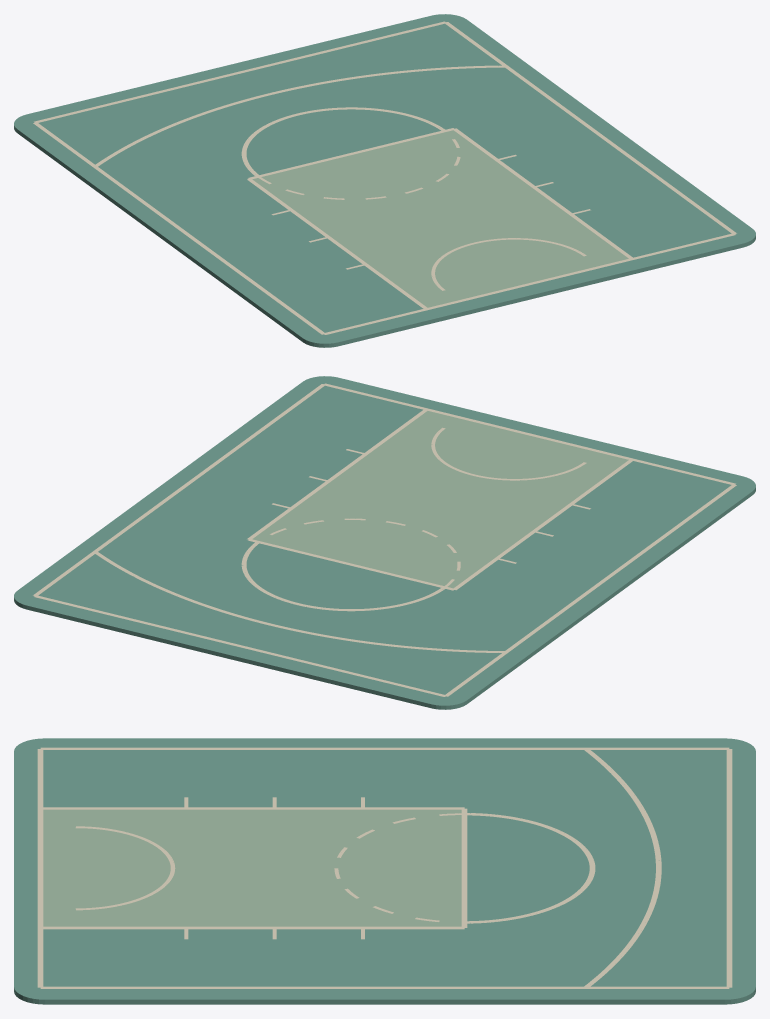
Rendered from court.glb.
3 renders of one model, top to bottom at view 1: azimuth 30°, elevation 25°; view 2: azimuth 150°, elevation 25°; view 3: azimuth 270°, elevation 25°, orthographic. The views are drawn at different scales.
Visible parts, largest first — view 1: court_fabric, court_key, court_lines; view 2: court_fabric, court_key, court_lines; view 3: court_fabric, court_key, court_lines.
Boxes of the visible parts, x1,y1,x2,y2 form: court_fabric: (14, 14, 755, 347); court_key: (252, 130, 628, 307); court_lines: (33, 21, 736, 334); court_fabric: (14, 376, 755, 709); court_key: (252, 411, 628, 588); court_lines: (33, 383, 736, 696); court_fabric: (14, 738, 755, 1004); court_key: (43, 809, 461, 926); court_lines: (37, 747, 732, 988).
Bounding box in the file's own units: 1.4 × 0.014 × 1.68.
